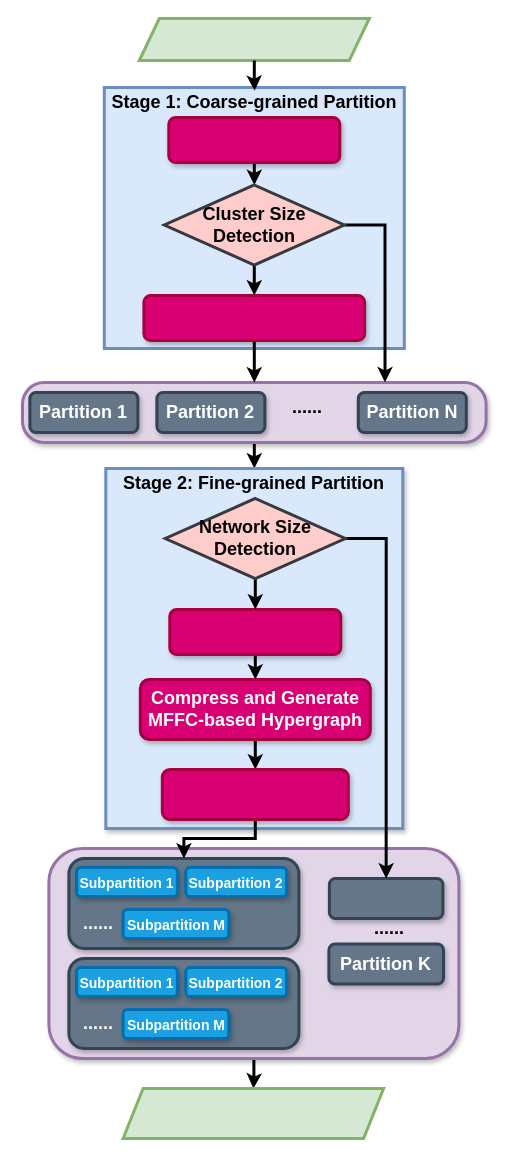
Some shapes in this 511 by 1157 pixel diagram are drawn without their labels. Each missing label, with the centre of its shape:
And Inverter Graph: (253,39)
Multilevel Hypergraph Partition: (255,796)
Partition J: (386,899)
Partition Large Clusters: (255,319)
Partitioned Gate Level Verilog: (253,1113)
Traverse and Construct Clusters: (255,141)
Traverse and Construct MFFCs: (256,633)
